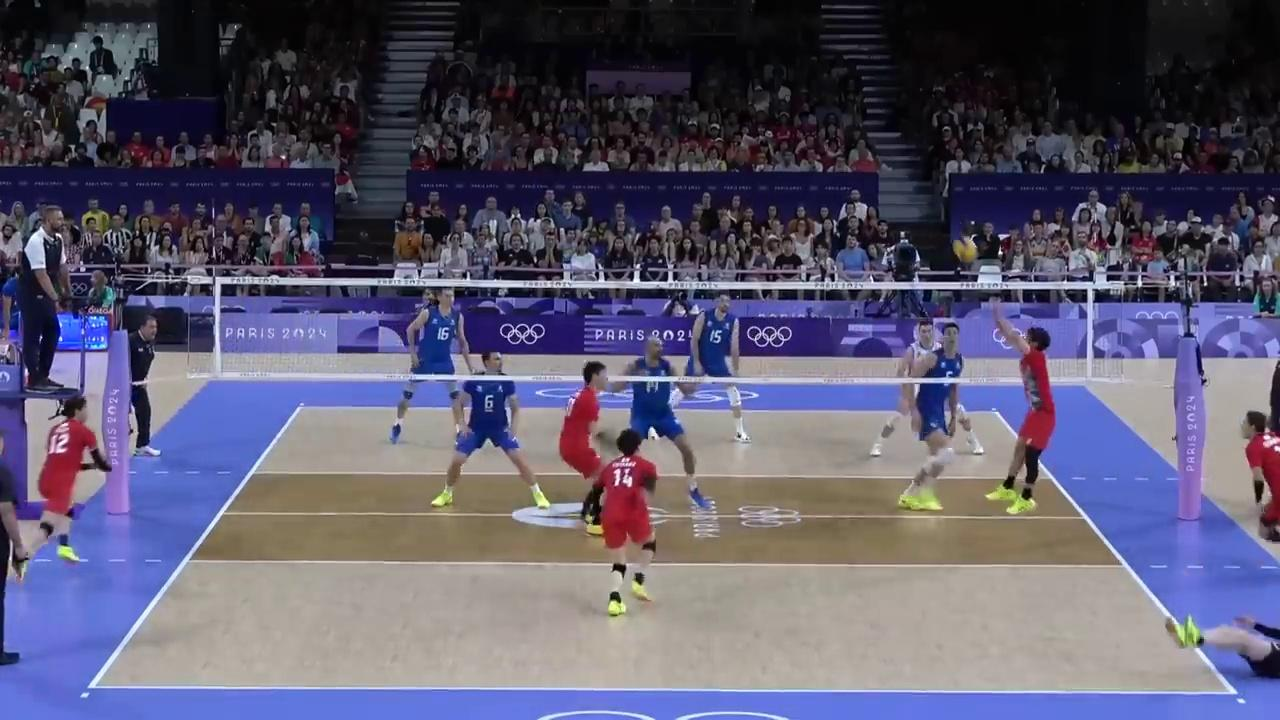ball: (953, 238, 979, 262)
